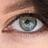eye: (20, 16, 37, 31)
